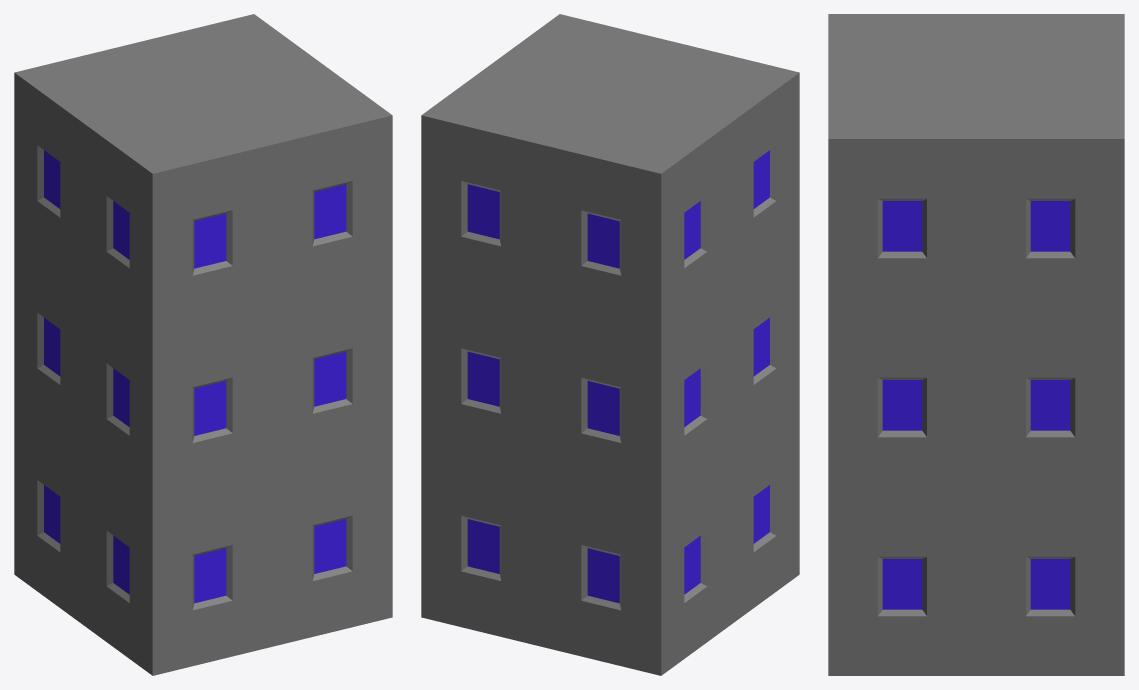
The model's file is building.fbx.
3 views of the same model, side by side, from view 1: azimuth 30°, elevation 25°; view 2: azimuth 150°, elevation 25°; view 3: azimuth 270°, elevation 25° (orthographic). The views are drawn at different scales.
Parts seen in each view (by area): view 1: Box002; view 2: Box002; view 3: Box002.
Boxes of the visible parts, x1,y1,x2,y2 form: Box002: [14, 14, 392, 675]; Box002: [421, 14, 799, 675]; Box002: [828, 14, 1124, 675].
Size of the model in its own units: 60 by 120 by 60.
